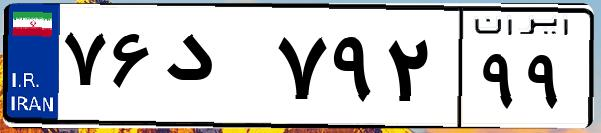2: (385, 28, 445, 110)
6: (110, 28, 158, 98)
7: (270, 28, 330, 110), (57, 26, 110, 100)
9: (330, 28, 385, 110), (475, 38, 525, 113), (525, 38, 570, 115)
د: (158, 20, 270, 120)
